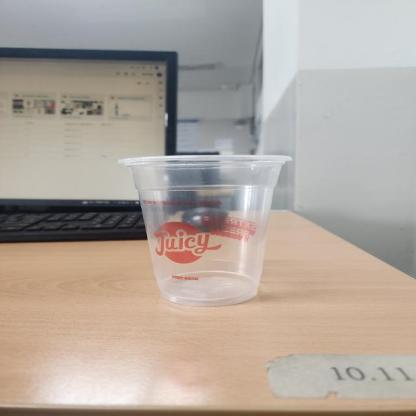Plastic Cup: (119, 154, 293, 306)
